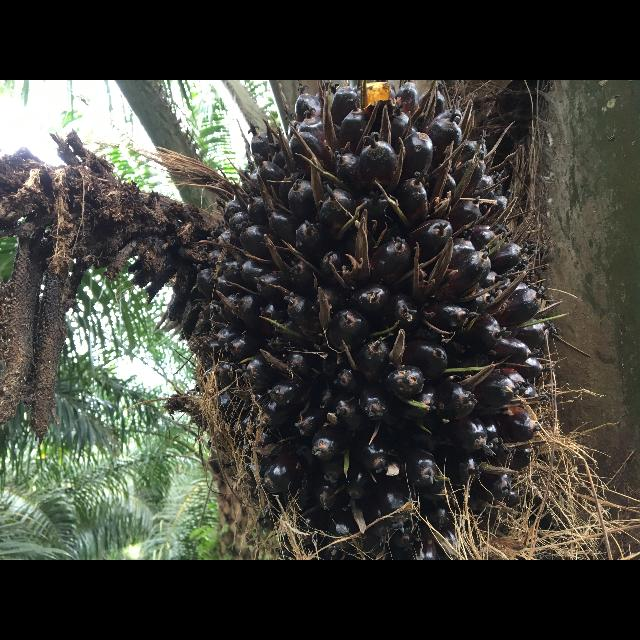Unripe: (207, 82, 560, 560)
